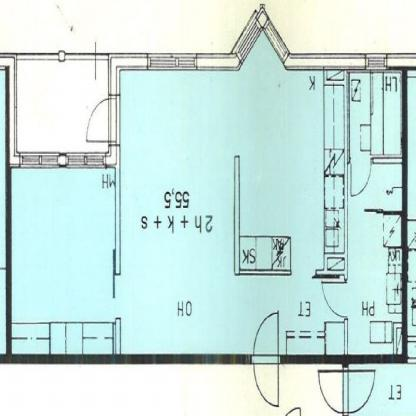door: (248, 307, 284, 412), (317, 369, 378, 413), (80, 95, 116, 148), (320, 277, 350, 323), (350, 157, 373, 200)
window: (255, 18, 291, 71), (233, 19, 263, 69), (148, 55, 197, 69), (21, 150, 60, 167), (66, 152, 104, 168), (367, 56, 386, 68)
zone: (118, 24, 402, 354), (12, 168, 115, 355)
